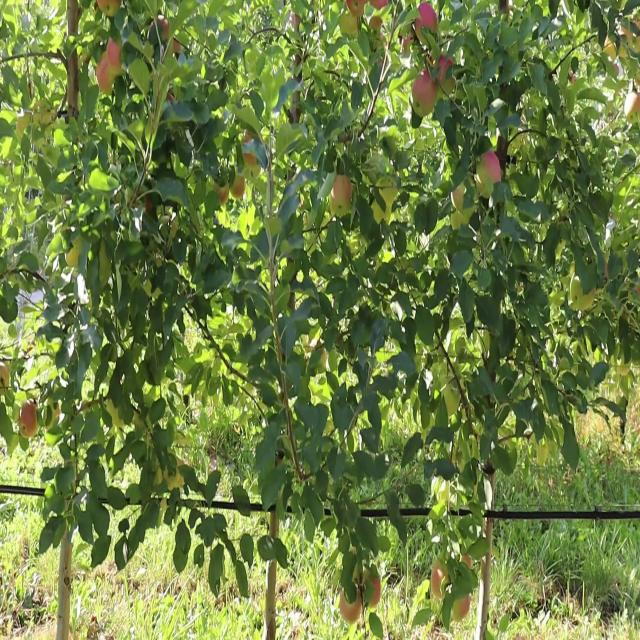apple: (410, 70, 437, 116), (474, 151, 500, 195), (329, 175, 351, 216), (414, 2, 436, 43), (434, 56, 456, 96), (570, 276, 594, 310), (18, 401, 40, 438), (339, 587, 362, 622), (430, 560, 448, 598), (96, 58, 114, 94), (108, 39, 124, 78), (624, 90, 640, 122), (366, 573, 381, 607), (64, 239, 82, 267), (452, 594, 470, 622), (97, 0, 121, 15), (346, 0, 366, 16), (0, 361, 9, 394), (230, 180, 246, 198), (218, 185, 228, 204)
